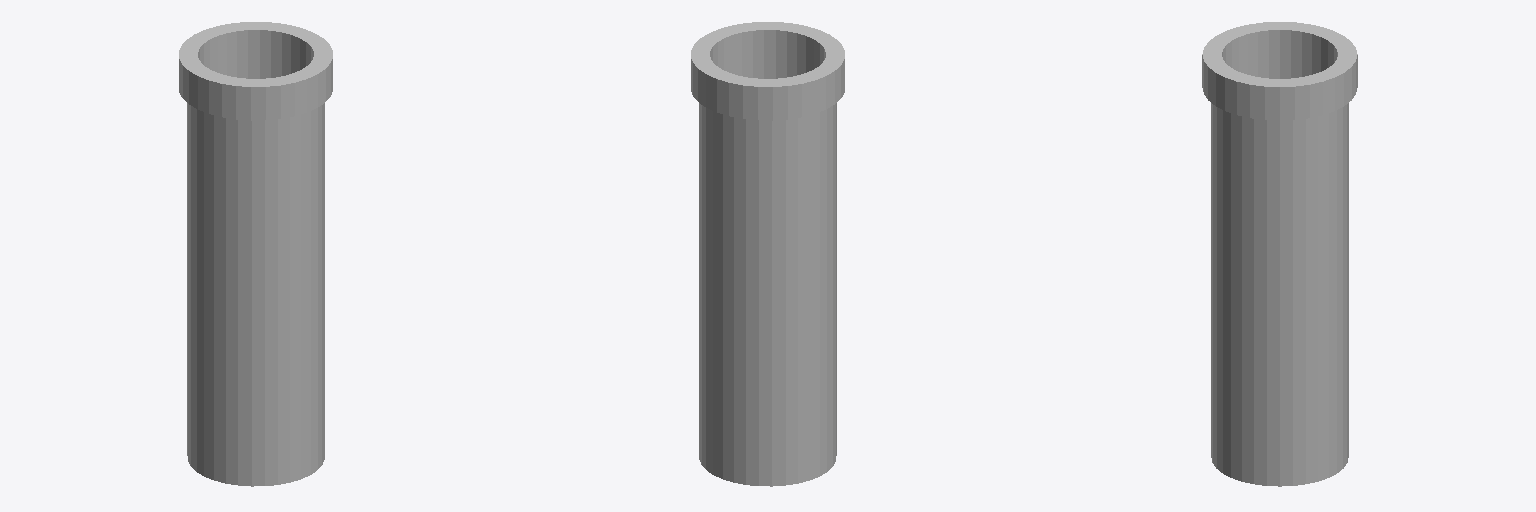
Rendered from tunnel.obj.
The picture shows the model from 3 angles: view 1: azimuth 30°, elevation 25°; view 2: azimuth 150°, elevation 25°; view 3: azimuth 270°, elevation 25°; orthographic projection.
Parts seen in each view (by area): view 1: Cylinder; view 2: Cylinder; view 3: Cylinder.
Part boxes in pixels (x1,y1,x2,y2): Cylinder: (179, 22, 332, 486); Cylinder: (691, 22, 844, 486); Cylinder: (1202, 22, 1357, 486).
Bounding box in the file's own units: 2.26 × 6.47 × 2.26.